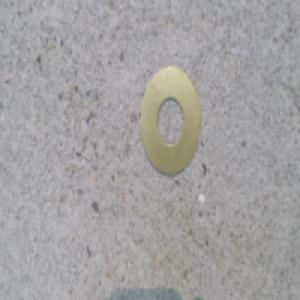Washer: (138, 64, 202, 179)
